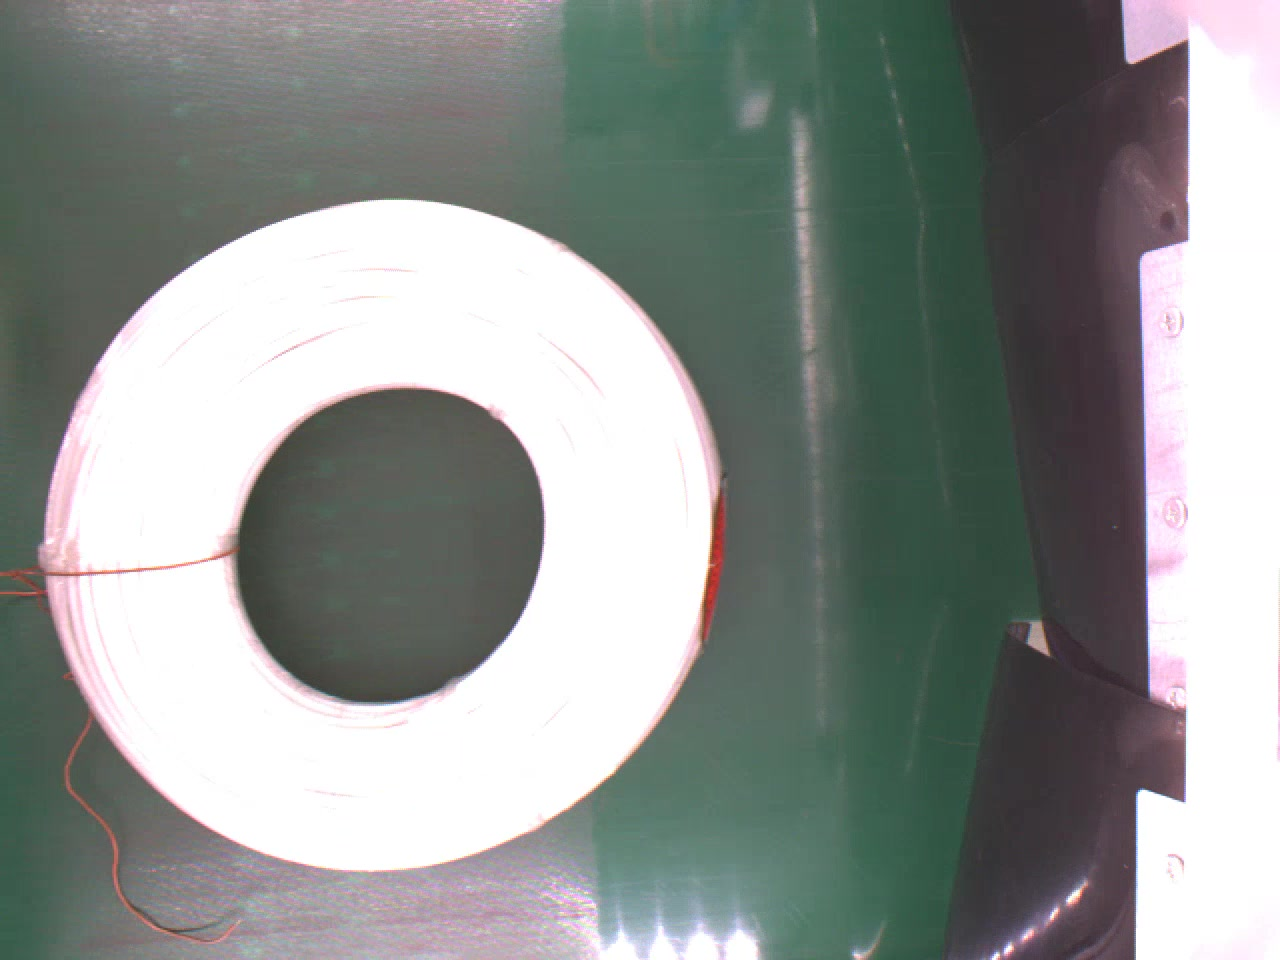white: (41, 196, 719, 868)
